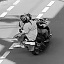motor: (17, 12, 52, 55)
